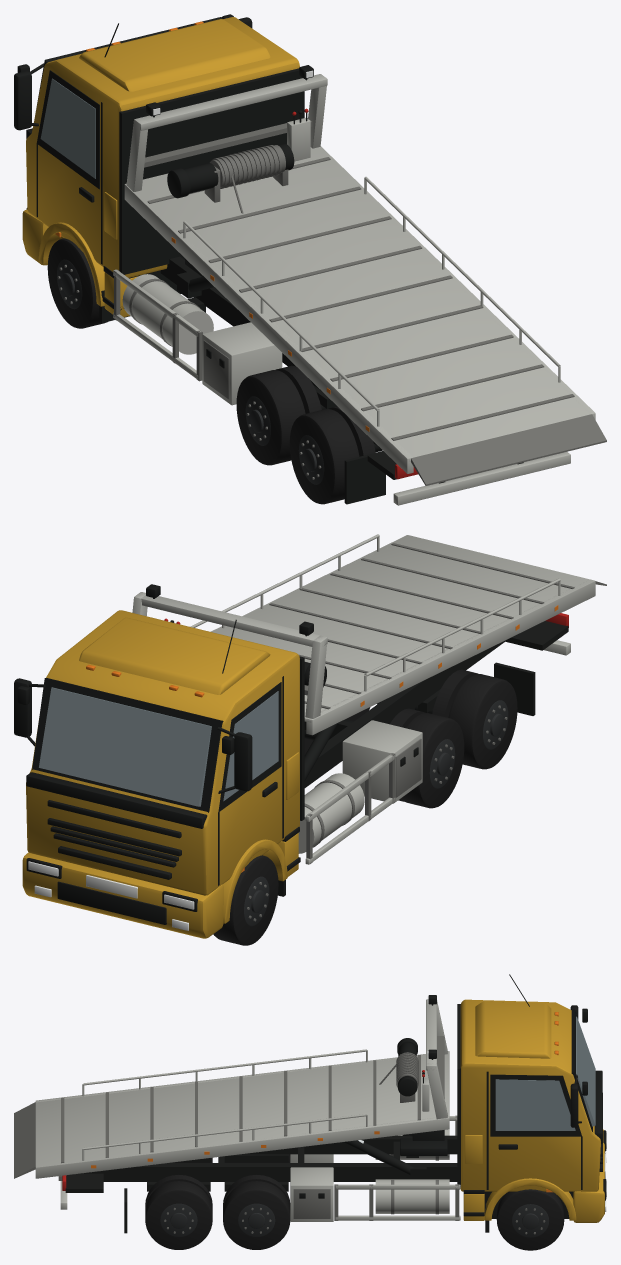
File: guincho.glb
3 renders of one model, top to bottom at view 1: azimuth 30°, elevation 25°; view 2: azimuth 150°, elevation 25°; view 3: azimuth 270°, elevation 25°, orthographic. The views are drawn at different scales.
Visible parts, largest first — view 1: corpo; view 2: corpo; view 3: corpo.
Part boxes in pixels (x1=…): corpo: x1=14, y1=14, x2=606, y2=505; corpo: x1=14, y1=534, x2=606, y2=945; corpo: x1=14, y1=974, x2=606, y2=1250.
Size of the model in its own units: 3.12 by 3.86 by 9.31.
Materials: 1 (1 with a texture image).
